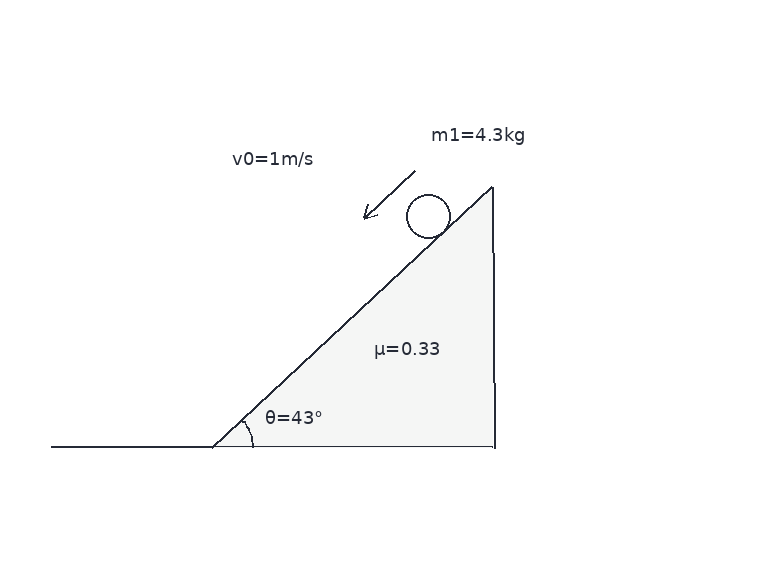ball: (404, 192, 452, 240)
ramp: (211, 184, 494, 449)
